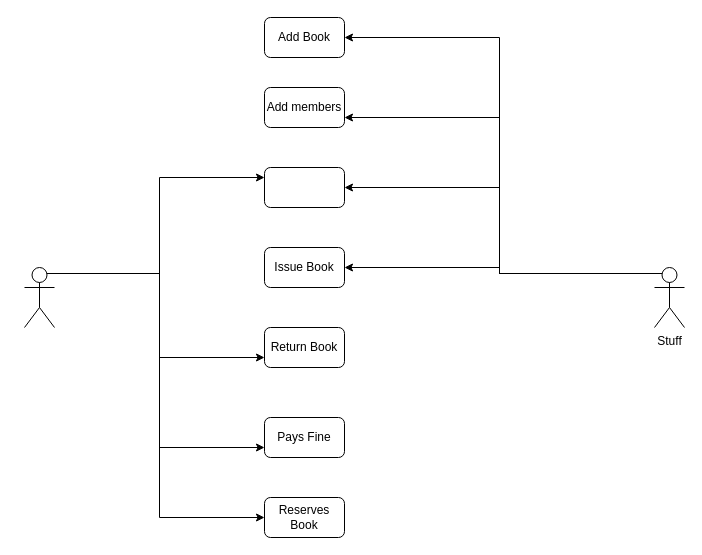
This 702x555 diagram has some shape labels left out. Each missing label, with the centre of its shape:
"Member" belongs at point (39, 297).
"Search Book" belongs at point (304, 187).
